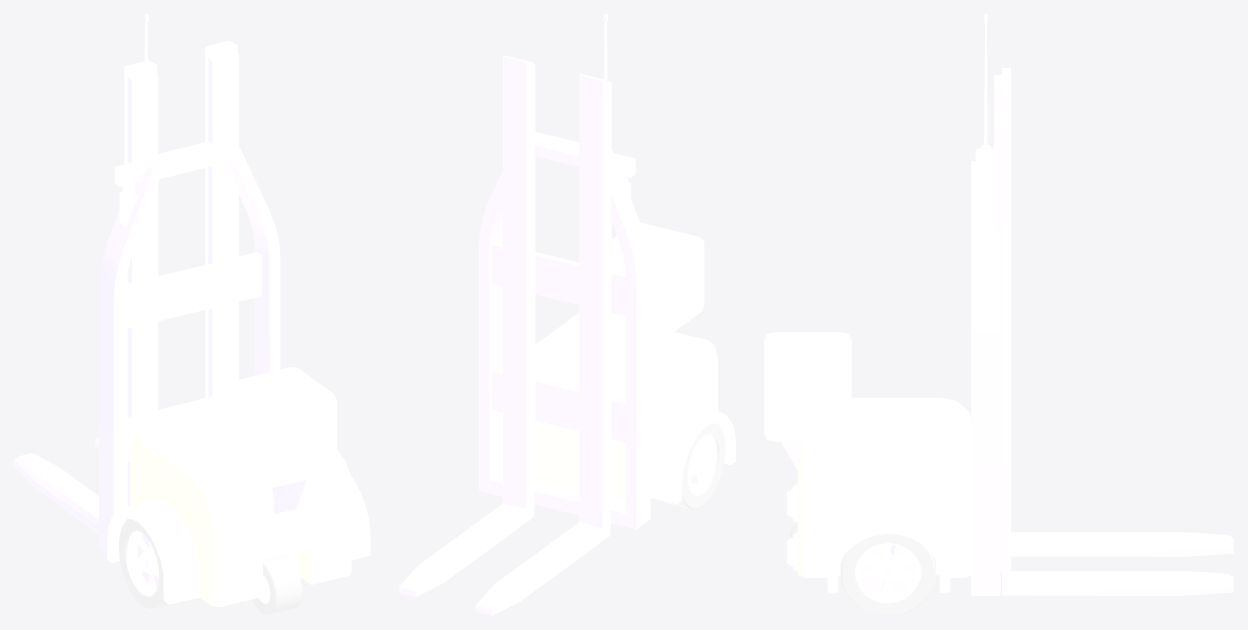
The model's file is Warehouse_Assets_Forklift_Small.glb.
3 views of the same model, side by side, from view 1: azimuth 30°, elevation 25°; view 2: azimuth 150°, elevation 25°; view 3: azimuth 270°, elevation 25° (orthographic). The views are drawn at different scales.
Parts seen in each view (by area): view 1: Forklift_Small; view 2: Forklift_Small; view 3: Forklift_Small.
Part boxes in pixels (x1,y1,x2,y2): Forklift_Small: (14, 14, 370, 615); Forklift_Small: (399, 14, 735, 615); Forklift_Small: (764, 14, 1233, 615).
Bounding box in the file's own units: 1.05 × 2.71 × 2.15.
